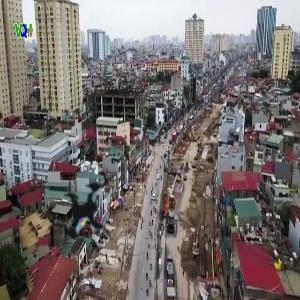drone: (13, 141, 150, 278)
